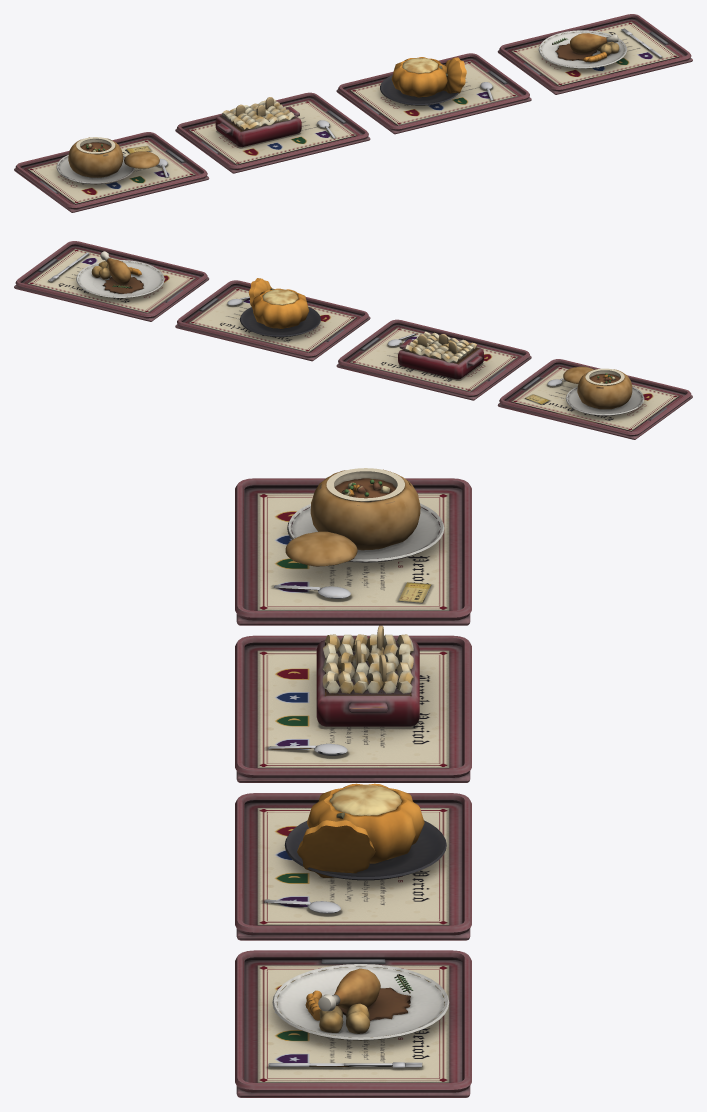
Rendered from ConcessionLunchHouse.fbx.
The picture shows the model from 3 angles, top to bottom: view 1: azimuth 30°, elevation 25°; view 2: azimuth 150°, elevation 25°; view 3: azimuth 270°, elevation 25°; orthographic projection. The views are drawn at different scales.
Parts seen in each view (by area): view 1: ConcessionLunchHouse_PumpkinGratin, ConcessionLunchHouse_WitchingStew, ConcessionLunchHouse_ShepherdsPie, ConcessionLunchHouse_RavensRoast; view 2: ConcessionLunchHouse_PumpkinGratin, ConcessionLunchHouse_WitchingStew, ConcessionLunchHouse_ShepherdsPie, ConcessionLunchHouse_RavensRoast; view 3: ConcessionLunchHouse_WitchingStew, ConcessionLunchHouse_PumpkinGratin, ConcessionLunchHouse_ShepherdsPie, ConcessionLunchHouse_RavensRoast.
Part boxes in pixels (left/top/right/bottom): ConcessionLunchHouse_PumpkinGratin: left=336, top=53, right=531, bottom=134; ConcessionLunchHouse_WitchingStew: left=14, top=132, right=209, bottom=212; ConcessionLunchHouse_ShepherdsPie: left=175, top=92, right=370, bottom=173; ConcessionLunchHouse_RavensRoast: left=497, top=14, right=692, bottom=94; ConcessionLunchHouse_PumpkinGratin: left=175, top=278, right=370, bottom=361; ConcessionLunchHouse_WitchingStew: left=497, top=359, right=692, bottom=439; ConcessionLunchHouse_ShepherdsPie: left=336, top=319, right=531, bottom=400; ConcessionLunchHouse_RavensRoast: left=14, top=241, right=209, bottom=321; ConcessionLunchHouse_WitchingStew: left=235, top=468, right=471, bottom=625; ConcessionLunchHouse_PumpkinGratin: left=235, top=783, right=471, bottom=940; ConcessionLunchHouse_ShepherdsPie: left=235, top=625, right=471, bottom=782; ConcessionLunchHouse_RavensRoast: left=235, top=950, right=471, bottom=1097.
Size of the model in its own units: 586 by 32.29 by 96.58.
